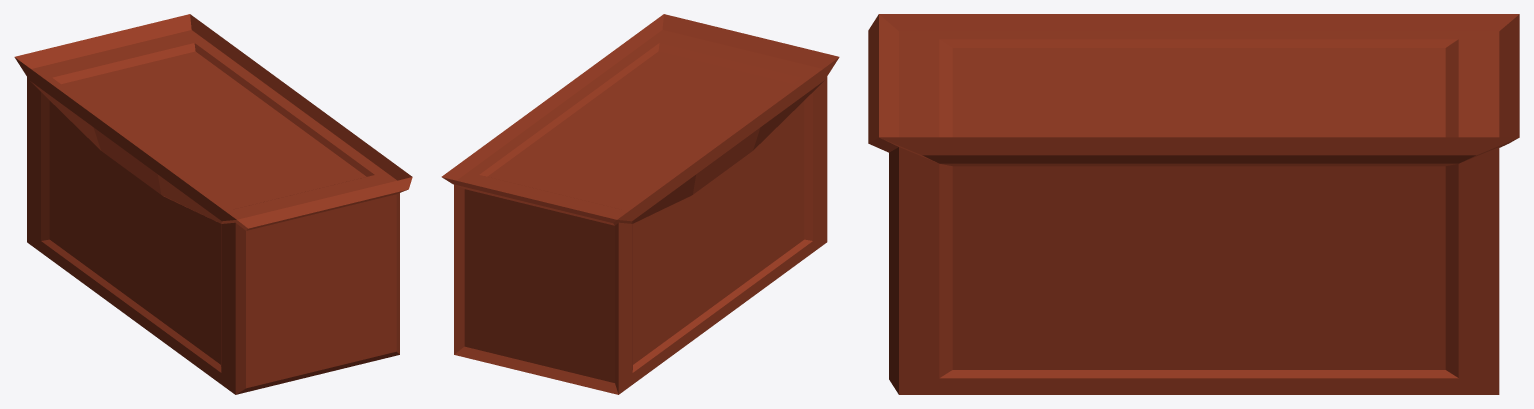
File: Box2GrootNotexture.glb
The picture shows the model from 3 angles, left to right: view 1: azimuth 30°, elevation 25°; view 2: azimuth 150°, elevation 25°; view 3: azimuth 270°, elevation 25°; orthographic projection. The views are drawn at different scales.
Parts seen in each view (by area): view 1: Cube.001; view 2: Cube.001; view 3: Cube.001.
Boxes of the visible parts, bbox=[...] form: Cube.001: bbox=[14, 14, 412, 394]; Cube.001: bbox=[441, 14, 839, 394]; Cube.001: bbox=[868, 14, 1519, 394].
Size of the model in its own units: 1.14 by 1.13 by 2.55.
